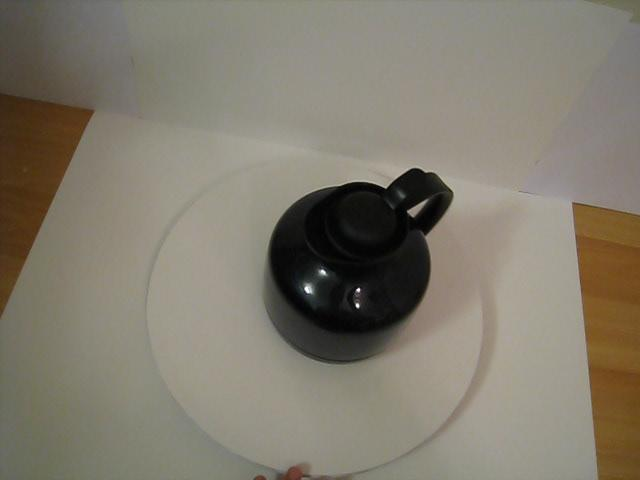pitcher: (253, 171, 463, 379)
